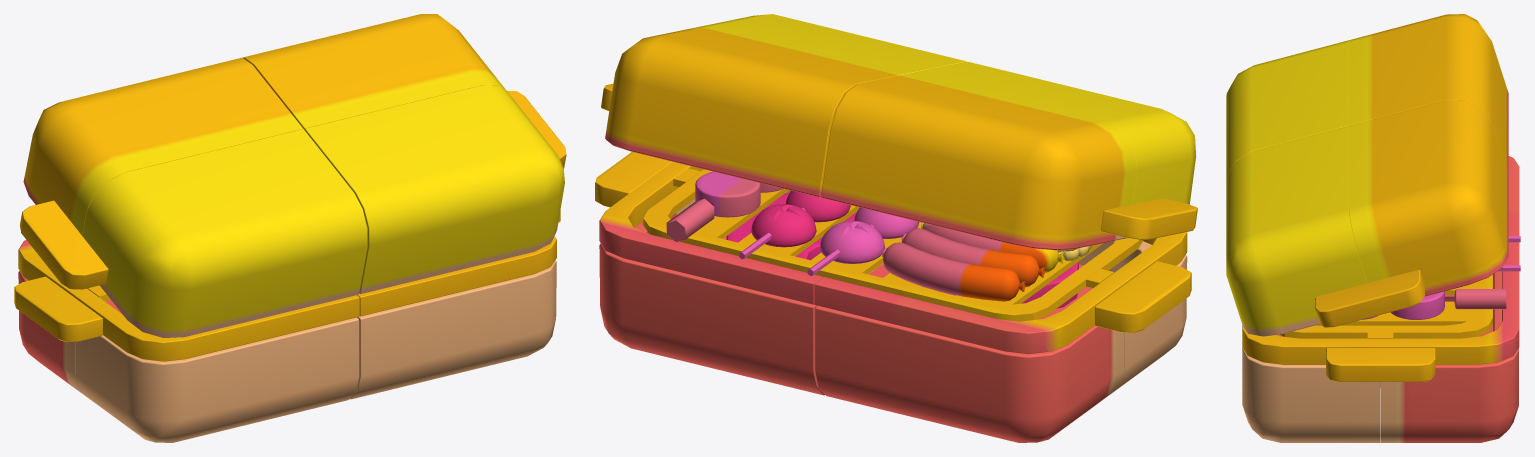
Rendered from level_154.fbx.
The picture shows the model from 3 angles, left to right: view 1: azimuth 30°, elevation 25°; view 2: azimuth 150°, elevation 25°; view 3: azimuth 270°, elevation 25°; orthographic projection. The views are drawn at different scales.
Parts seen in each view (by area): view 1: Cube_L1_2.003, Cube_L1_3.003, Cube_L1.003, Cube_L2_2.003, Cube_L1_1.003, Cube_L2_3.003, Cube_L4.003, Cube_L4_1.003, Cube_L1_4.003, Cube_L2_4.003, Cube_L2.003, Cube_L1_5.003; view 2: Cube_L1.003, Cube_L1_1.003, Cube_L2.003, Cube_L2_1.003, Cube_L4_2.003, Cube_L4.003, Cube_L1_2.003, Cube_L4_1.003, Cube_L1_3.003, Cube_L3.003, Cube_L2_4.003, Cube_L3_7.002 (+9 smaller); view 3: Cube_L1_1.003, Cube_L1_3.003, Cube_L1.003, Cube_L1_2.003, Cube_L2_1.003, Cube_L2_3.003, Cube_L4_1.003, Cube_L4_2.003, Cube_L1_5.003, Cube_L2_5.003, Cube_L3_11.002, Cube_L4.003 (+1 smaller).
Boxes of the visible parts, left/top/right/bottom form: Cube_L1_2.003: left=82, top=129, right=367, bottom=338; Cube_L1_3.003: left=305, top=85, right=564, bottom=294; Cube_L1.003: left=23, top=57, right=303, bottom=235; Cube_L2_2.003: left=75, top=317, right=359, bottom=442; Cube_L1_1.003: left=242, top=14, right=507, bottom=129; Cube_L2_3.003: left=350, top=260, right=556, bottom=399; Cube_L4.003: left=18, top=240, right=359, bottom=361; Cube_L4_1.003: left=357, top=236, right=556, bottom=316; Cube_L1_4.003: left=20, top=200, right=108, bottom=289; Cube_L2_4.003: left=14, top=276, right=102, bottom=342; Cube_L2.003: left=18, top=270, right=90, bottom=399; Cube_L1_5.003: left=507, top=90, right=566, bottom=168; Cube_L1.003: left=821, top=73, right=1136, bottom=250; Cube_L1_1.003: left=605, top=25, right=910, bottom=197; Cube_L2.003: left=815, top=306, right=1124, bottom=442; Cube_L2_1.003: left=599, top=203, right=824, bottom=395; Cube_L4_2.003: left=643, top=168, right=1143, bottom=321; Cube_L4.003: left=814, top=232, right=1187, bottom=354; Cube_L1_2.003: left=913, top=62, right=1196, bottom=238; Cube_L4_1.003: left=599, top=162, right=822, bottom=304; Cube_L1_3.003: left=699, top=14, right=966, bottom=73; Cube_L3.003: left=882, top=242, right=1025, bottom=301; Cube_L2_4.003: left=1094, top=261, right=1191, bottom=332; Cube_L3_7.002: left=739, top=190, right=850, bottom=259; Cube_L1_1.003: left=1349, top=100, right=1508, bottom=296; Cube_L1_3.003: left=1226, top=126, right=1367, bottom=336; Cube_L1.003: left=1349, top=14, right=1508, bottom=173; Cube_L1_2.003: left=1226, top=40, right=1350, bottom=177; Cube_L2_1.003: left=1381, top=271, right=1518, bottom=442; Cube_L2_3.003: left=1242, top=348, right=1380, bottom=442; Cube_L4_1.003: left=1242, top=247, right=1519, bottom=364; Cube_L4_2.003: left=1280, top=274, right=1492, bottom=338; Cube_L1_5.003: left=1315, top=270, right=1424, bottom=327; Cube_L2_5.003: left=1326, top=348, right=1435, bottom=381; Cube_L3_11.002: left=1444, top=289, right=1506, bottom=309; Cube_L4.003: left=1508, top=156, right=1519, bottom=248.
Size of the model in its own units: 13.51 by 6.94 by 7.2.
